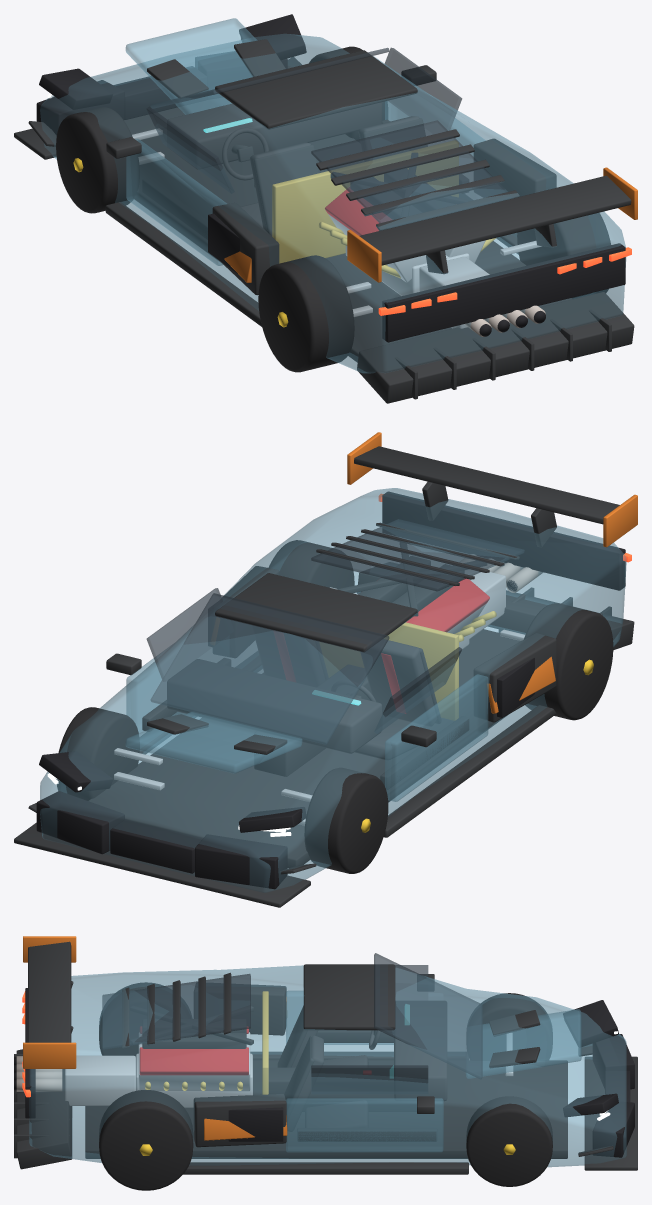
Rendered from vortex-v12-glass.glb.
3 renders of one model, top to bottom at view 1: azimuth 30°, elevation 25°; view 2: azimuth 150°, elevation 25°; view 3: azimuth 270°, elevation 25°, orthographic. The views are drawn at different scales.
Visible parts, largest first — view 1: Vortex_Body_Shell, Rear_Diffuser_Base, Chassis_Tub_Floor, Rear_Grille_Mesh, Engine_Deck_Glass, Tire_RL, Rear_Wing_Blade, Roof_Carbon_Panel, Rear_Firewall_Gold, Dashboard_Main, Tire_FL, Hood_Power_Dome (+38 smaller); view 2: Vortex_Body_Shell, Windshield_Glass, Chassis_Tub_Floor, Dashboard_Main, Rear_Grille_Mesh, Roof_Carbon_Panel, Tire_FL, Engine_Deck_Glass, Tire_RL, Door_Panel_-1, Rear_Wing_Blade, Hood_Power_Dome (+38 smaller); view 3: Vortex_Body_Shell, Chassis_Tub_Floor, Door_Panel_+1, Windshield_Glass, Tire_RR, Engine_Deck_Glass, Tire_FR, Roof_Carbon_Panel, Dashboard_Main, Rear_Wing_Blade, Hood_Power_Dome, Center_Tunnel (+44 smaller).
Boxes of the visible parts, box(x1,y1,x2,y2) form: Vortex_Body_Shell: box(40, 34, 626, 373); Rear_Diffuser_Base: box(357, 292, 634, 403); Chassis_Tub_Floor: box(134, 129, 572, 362); Rear_Grille_Mesh: box(382, 243, 625, 342); Engine_Deck_Glass: box(311, 120, 513, 228); Tire_RL: box(258, 255, 354, 372); Rear_Wing_Blade: box(359, 175, 631, 265); Roof_Carbon_Panel: box(215, 50, 417, 129); Rear_Firewall_Gold: box(272, 141, 458, 263); Dashboard_Main: box(167, 102, 382, 169); Tire_FL: box(56, 107, 139, 213); Hood_Power_Dome: box(125, 18, 257, 114); Vortex_Body_Shell: box(40, 488, 626, 892); Windshield_Glass: box(151, 593, 389, 744); Chassis_Tub_Floor: box(89, 629, 520, 867); Dashboard_Main: box(167, 659, 382, 753); Rear_Grille_Mesh: box(382, 491, 625, 590); Roof_Carbon_Panel: box(215, 573, 417, 652); Tire_FL: box(304, 767, 388, 873); Engine_Deck_Glass: box(311, 519, 524, 591); Tire_RL: box(524, 603, 613, 720); Door_Panel_-1: box(385, 674, 488, 801); Rear_Wing_Blade: box(354, 446, 619, 524); Hood_Power_Dome: box(125, 712, 301, 773); Vortex_Body_Shell: box(29, 965, 626, 1167); Chassis_Tub_Floor: box(85, 1060, 567, 1158); Door_Panel_+1: box(286, 1098, 443, 1152); Windshield_Glass: box(374, 953, 482, 1079); Tire_RR: box(99, 1090, 193, 1190); Engine_Deck_Glass: box(102, 973, 250, 1049); Tire_FR: box(466, 1096, 552, 1186); Roof_Carbon_Panel: box(303, 964, 395, 1030); Dashboard_Main: box(394, 1001, 447, 1101); Rear_Wing_Blade: box(28, 941, 71, 1042); Hood_Power_Dome: box(466, 1009, 581, 1078); Center_Tunnel: box(268, 1067, 416, 1111).
Size of the model in its own units: 2.48 by 1.22 by 4.91.
